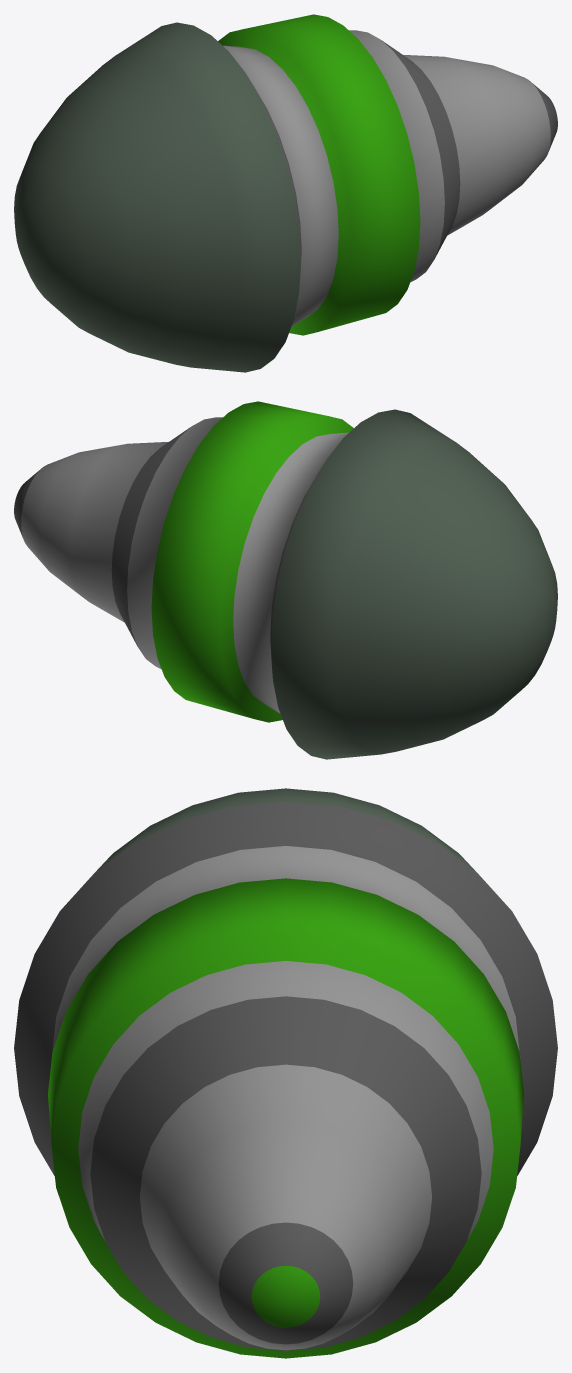
Rendered from Mortar.fbx.
3 views of the same model, one above another, from view 1: azimuth 30°, elevation 25°; view 2: azimuth 150°, elevation 25°; view 3: azimuth 270°, elevation 25° (orthographic). The views are drawn at different scales.
Visible parts, largest first — view 1: Mortar; view 2: Mortar; view 3: Mortar.
Part boxes in pixels (x1,y1,x2,y2): Mortar: (14, 14, 557, 372); Mortar: (14, 401, 557, 759); Mortar: (14, 788, 557, 1358).
Size of the model in its own units: 69.79 by 41.3 by 41.3.
